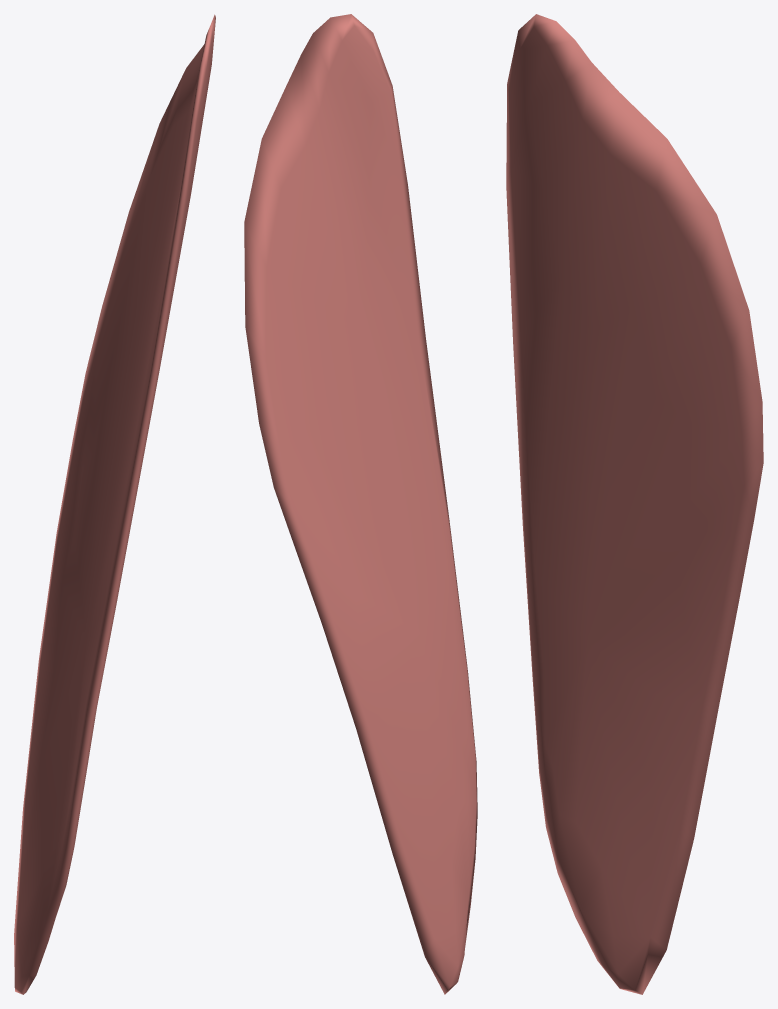
3 renders of one model, left to right at view 1: azimuth 30°, elevation 25°; view 2: azimuth 150°, elevation 25°; view 3: azimuth 270°, elevation 25°, orthographic. The views are drawn at different scales.
Visible parts, largest first — view 1: ZA_2f402481610a0ee7; view 2: ZA_2f402481610a0ee7; view 3: ZA_2f402481610a0ee7.
Part boxes in pixels (box(x1,y1,x2,y2)): ZA_2f402481610a0ee7: box(14, 14, 215, 994); ZA_2f402481610a0ee7: box(244, 14, 477, 994); ZA_2f402481610a0ee7: box(506, 14, 763, 994).
Size of the model in its own units: 0.00905 by 0.0448 by 0.00987.
